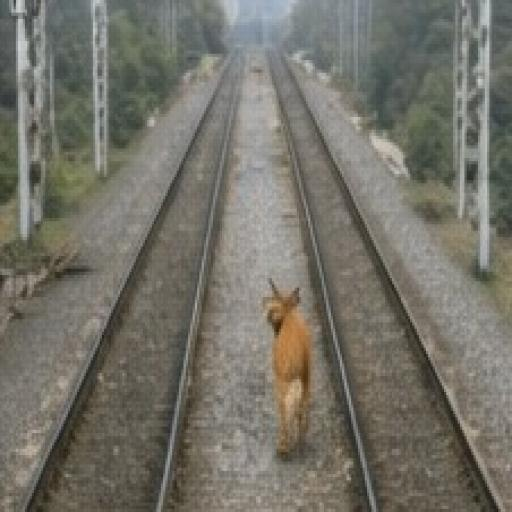camel: (261, 275, 316, 462)
